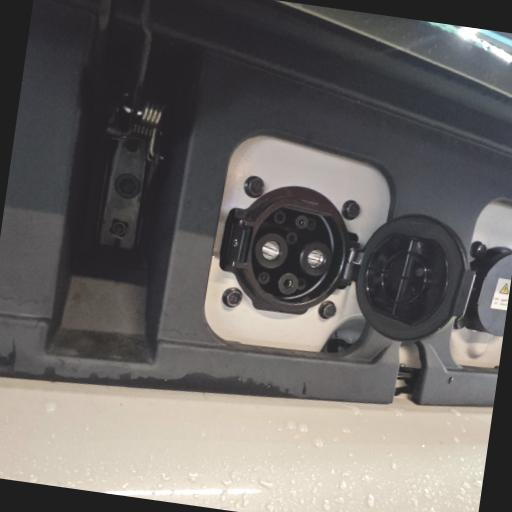DC_charging_port: (240, 194, 361, 318)
DC_hole: (251, 230, 291, 271), (298, 238, 336, 278)
PE: (276, 271, 301, 298)
